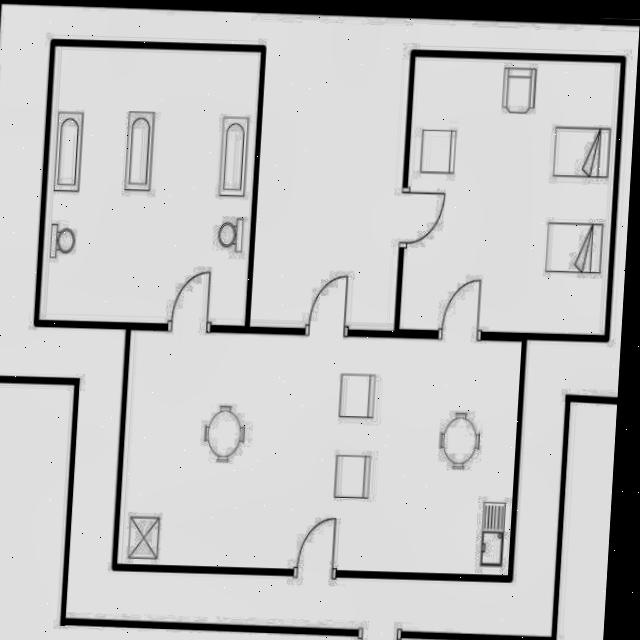room: (117, 330, 522, 576), (39, 40, 261, 332), (399, 51, 621, 341)
